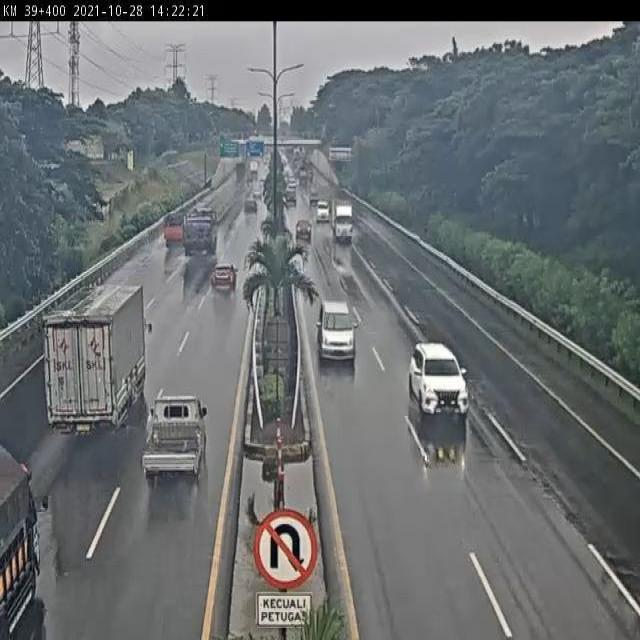car: (141, 389, 209, 484), (407, 339, 471, 421), (315, 297, 358, 364), (208, 258, 238, 294), (293, 215, 314, 242), (316, 200, 331, 221), (242, 200, 257, 217)
truck-l-: (43, 283, 154, 432), (183, 204, 221, 260)
truck-m-: (331, 194, 357, 247)
truck-s-: (165, 209, 191, 247)
